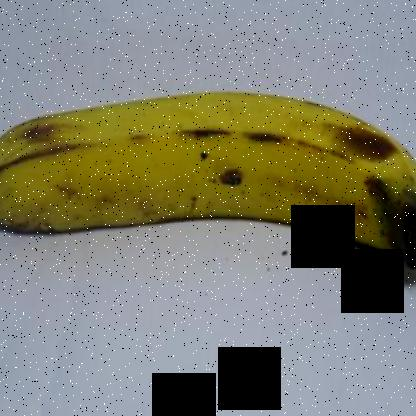ripe: (1, 78, 415, 275)
